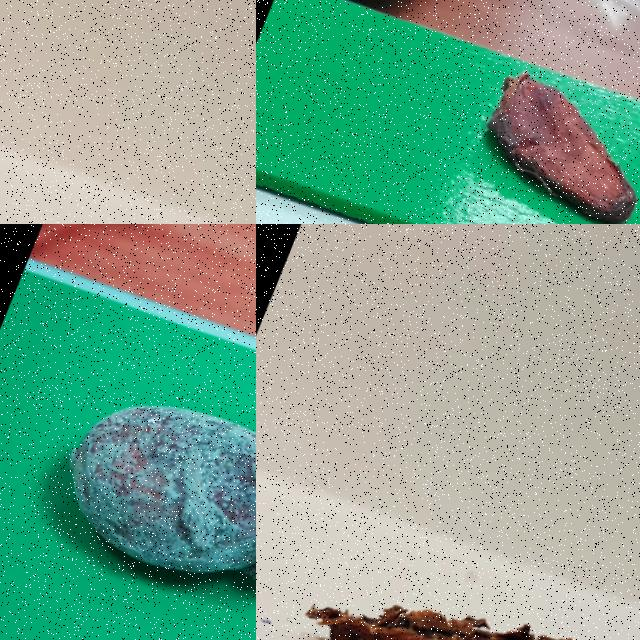Agglomerated_cocoabeans: (0, 274, 255, 639)
Flat_cocoabeans: (256, 486, 639, 639), (388, 19, 639, 223)
